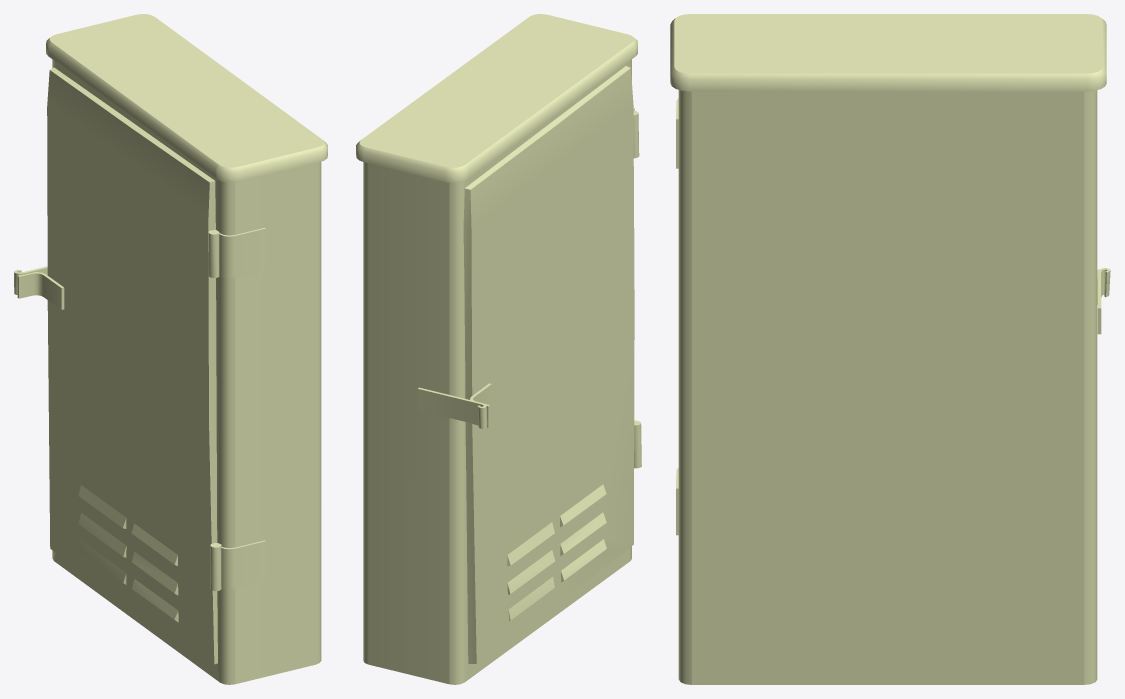
File: boxstrong4.fbx
3 renders of one model, left to right at view 1: azimuth 30°, elevation 25°; view 2: azimuth 150°, elevation 25°; view 3: azimuth 270°, elevation 25°, orthographic. The views are drawn at different scales.
Visible parts, largest first — view 1: mex_transformator_box11; view 2: mex_transformator_box11; view 3: mex_transformator_box11.
Part boxes in pixels (x1,y1,x2,y2): mex_transformator_box11: (14, 14, 327, 684); mex_transformator_box11: (356, 14, 641, 684); mex_transformator_box11: (670, 14, 1110, 684).
Bounding box in the file's own units: 49.37 × 180 × 117.
